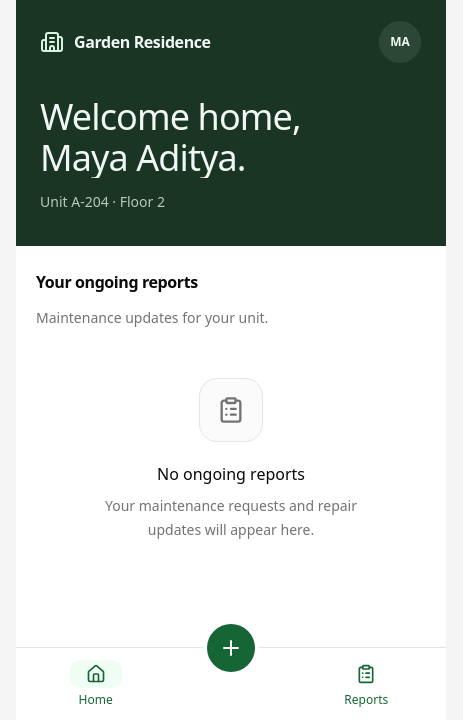
it: keeps the Concierge home focused and links the avatar to the live profile
The image size is (463, 720).
Expected: the heading "Welcome home, Maya Aditya." is shown, [40, 92, 301, 182]
Expected: the text "Unit A-204 · Floor 2" is shown, [40, 192, 165, 211]
Click the link "MA": (400, 42) [378, 20, 422, 64]
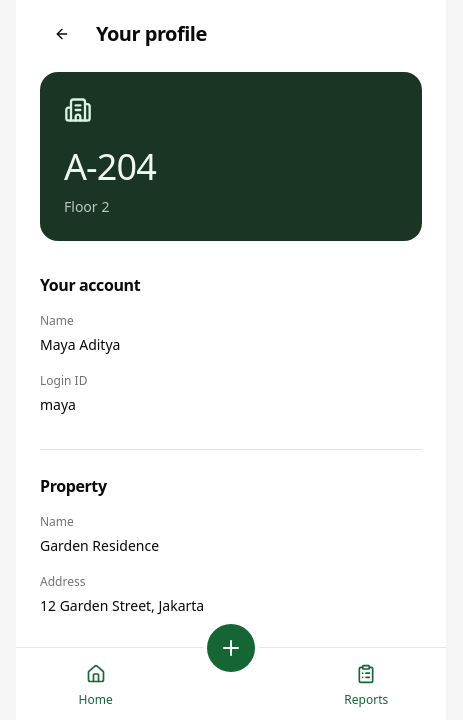
Expected: the heading "Your profile" is shown, [96, 20, 207, 48]
Expected: the text "maya" is shown, [40, 395, 76, 414]
Expected: the text "12 Garden Street, Jakarta" is shown, [40, 596, 204, 615]
Click the link named "Back to home": (62, 34) [54, 26, 70, 42]
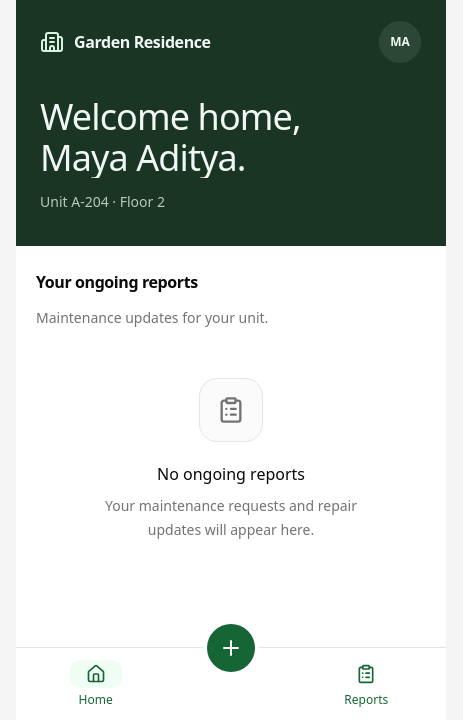
Expected: the heading "Welcome home, Maya Aditya." is shown, [40, 92, 301, 182]
